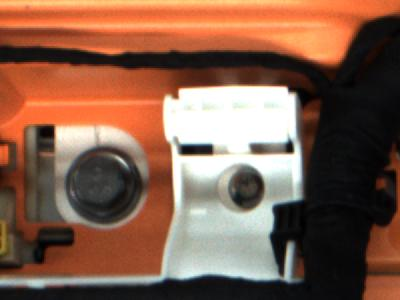nut_b: (62, 145, 146, 225)
